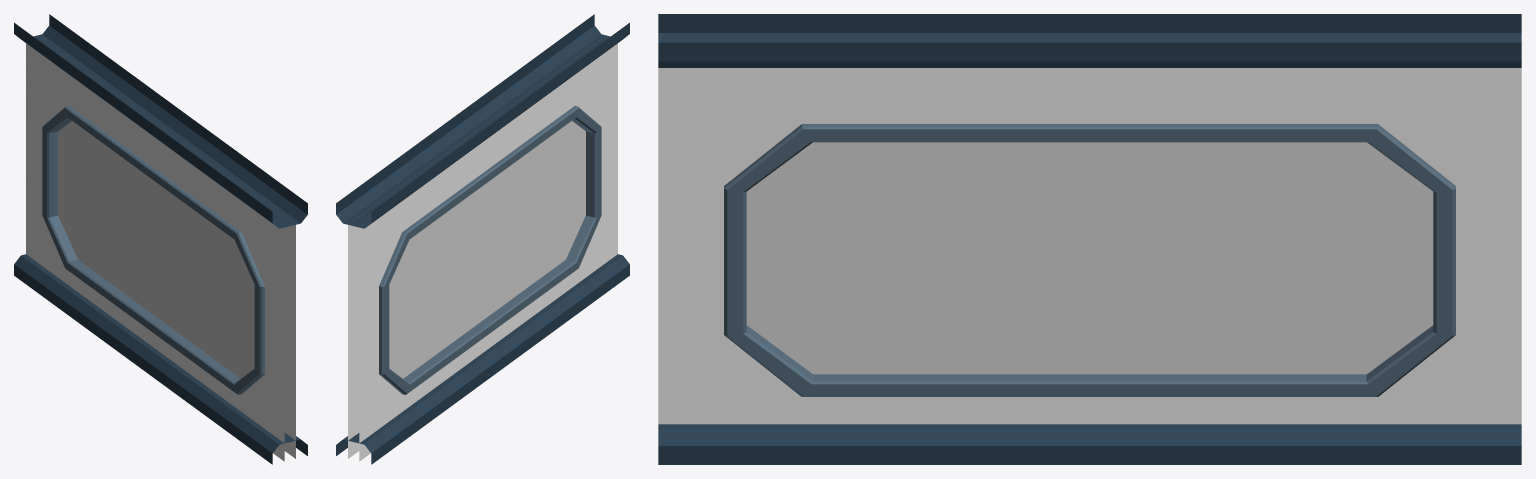
Rendered from SM_GlassModule_Large.fbx.
The picture shows the model from 3 angles, left to right: view 1: azimuth 30°, elevation 25°; view 2: azimuth 150°, elevation 25°; view 3: azimuth 270°, elevation 25°; orthographic projection. The views are drawn at different scales.
Visible parts, largest first — view 1: Cube.001; view 2: Cube.001; view 3: Cube.001.
Boxes of the visible parts, x1,y1,x2,y2 form: Cube.001: [14, 14, 307, 464]; Cube.001: [336, 14, 629, 464]; Cube.001: [658, 14, 1521, 464].
Size of the model in its own units: 400 by 31.37 by 216.
